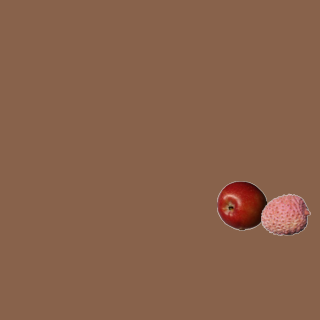Apple Braeburn: (216, 180, 266, 230)
Lychee: (260, 189, 310, 239)
